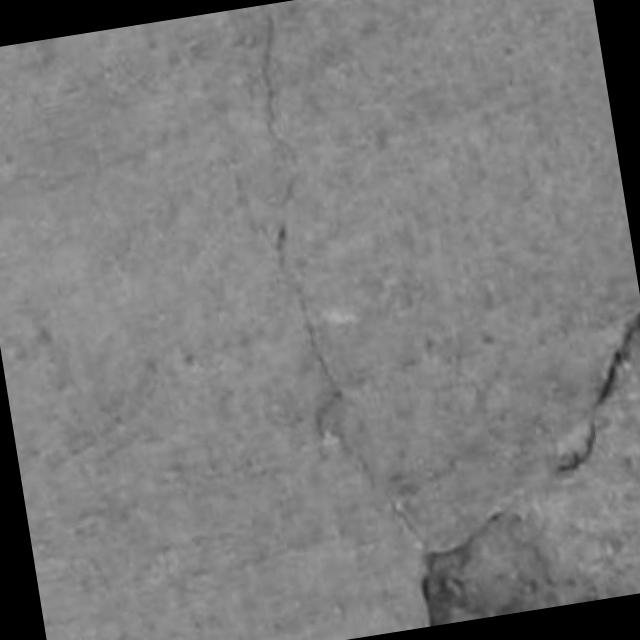crack: (272, 222, 422, 546), (274, 224, 422, 546), (555, 312, 639, 475), (259, 5, 290, 152), (594, 312, 639, 406), (259, 5, 278, 141), (553, 419, 596, 476)
